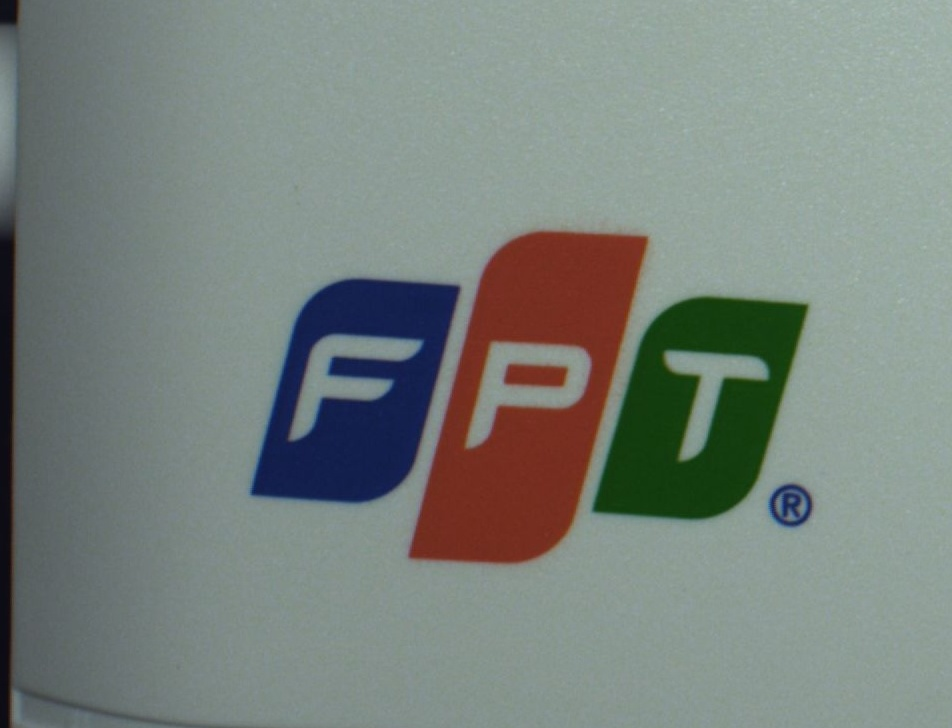BR_FPT: (224, 219, 827, 566)
